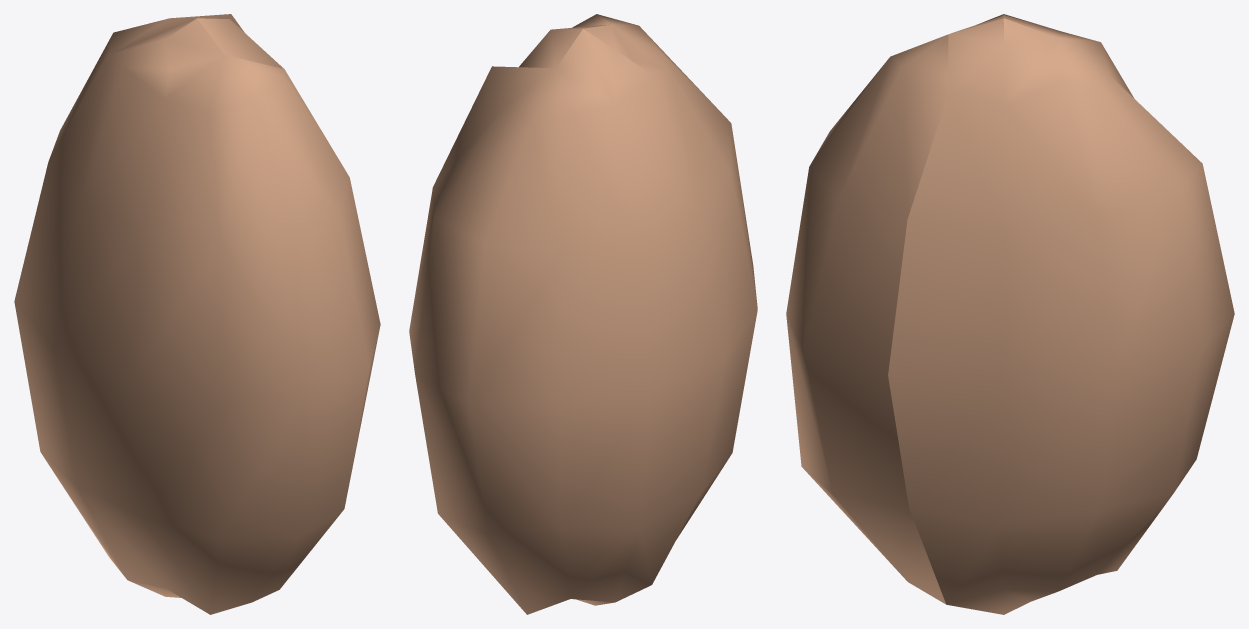
File: rock_008.fbx
3 views of the same model, side by side, from view 1: azimuth 30°, elevation 25°; view 2: azimuth 150°, elevation 25°; view 3: azimuth 270°, elevation 25° (orthographic).
Parts seen in each view (by area): view 1: Rock; view 2: Rock; view 3: Rock.
Boxes of the visible parts, bbox=[...] form: Rock: bbox=[14, 14, 380, 614]; Rock: bbox=[409, 14, 757, 614]; Rock: bbox=[786, 14, 1234, 614].
Size of the model in its own units: 1.27 by 2.54 by 1.78.
